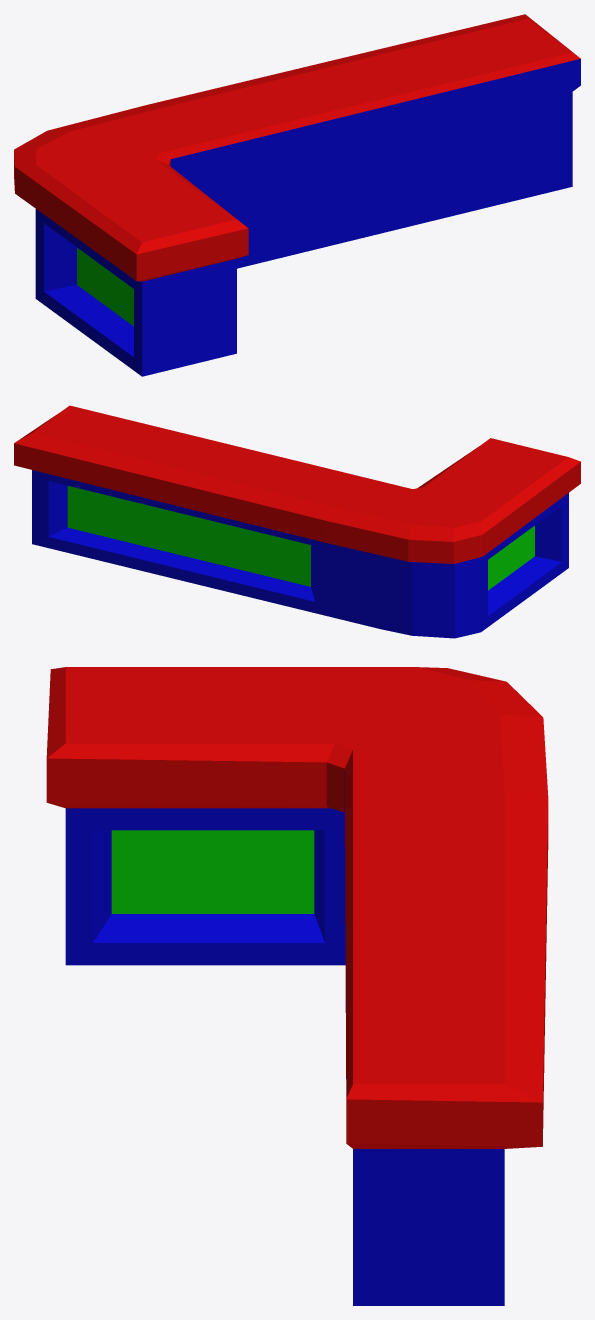
Rendered from barra.fbx.
3 views of the same model, one above another, from view 1: azimuth 30°, elevation 25°; view 2: azimuth 150°, elevation 25°; view 3: azimuth 270°, elevation 25° (orthographic). The views are drawn at different scales.
Parts seen in each view (by area): view 1: Barra; view 2: Barra; view 3: Barra.
Boxes of the visible parts, <box> form: Barra: <box>14,14,580,376</box>; Barra: <box>14,405,580,638</box>; Barra: <box>46,667,548,1305</box>.
Size of the model in its own units: 10.14 by 2.41 by 4.95.
